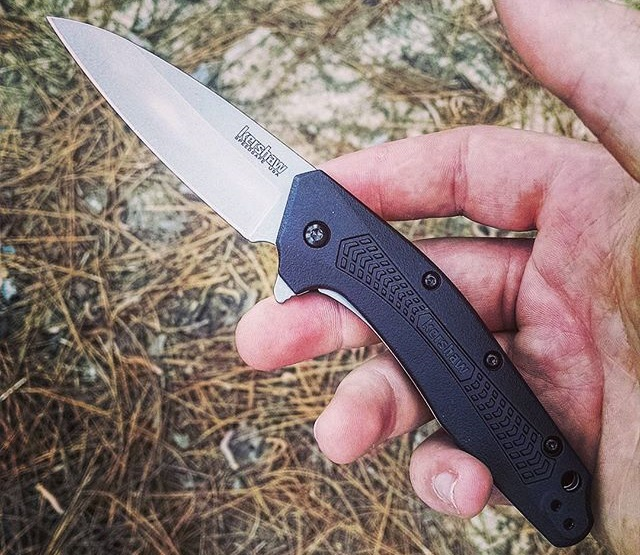knife: (37, 4, 599, 555)
